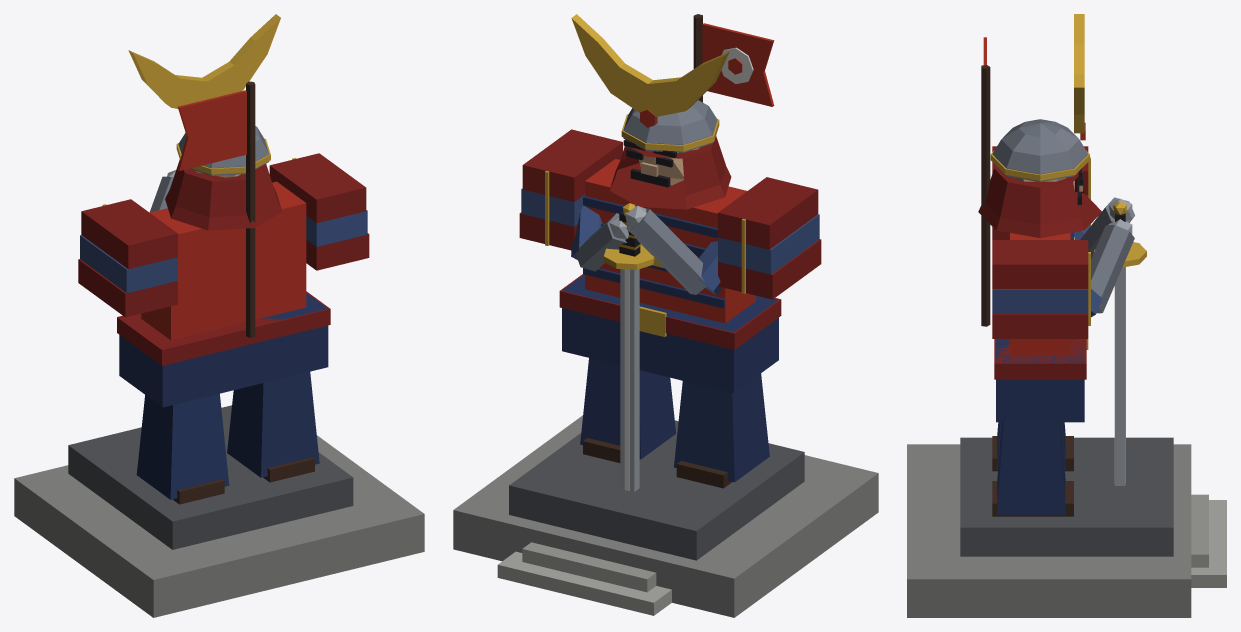
Rendered from Decor_SamuraiShrine_Statue.fbx.
3 renders of one model, left to right at view 1: azimuth 30°, elevation 25°; view 2: azimuth 150°, elevation 25°; view 3: azimuth 270°, elevation 25°, orthographic. The views are drawn at different scales.
Parts seen in each view (by area): view 1: Statue_Body; view 2: Statue_Body; view 3: Statue_Body.
Boxes of the visible parts, x1=… form: Statue_Body: x1=14, y1=14, x2=424, y2=617; Statue_Body: x1=453, y1=14, x2=878, y2=617; Statue_Body: x1=907, y1=14, x2=1226, y2=617.
Size of the model in its own units: 18 by 31.04 by 18.
